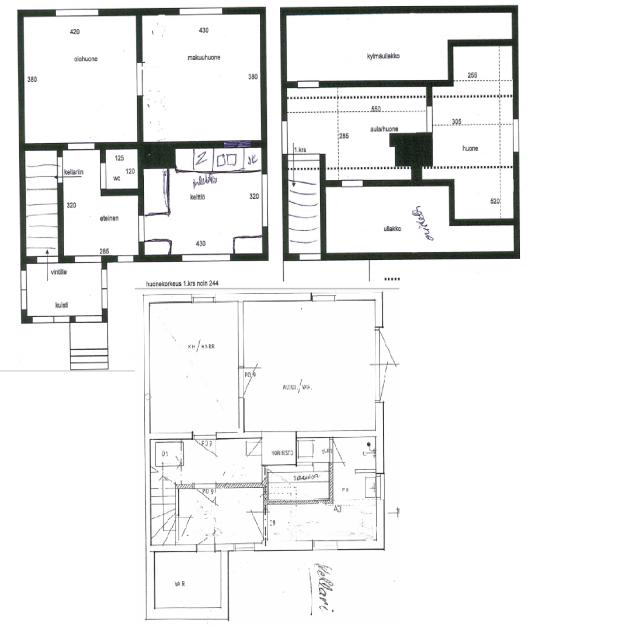door: (375, 327, 413, 365), (375, 365, 413, 403), (238, 367, 268, 398), (192, 432, 216, 469), (193, 482, 216, 516), (242, 512, 268, 540), (196, 517, 216, 550), (175, 516, 198, 539), (329, 441, 352, 463)
